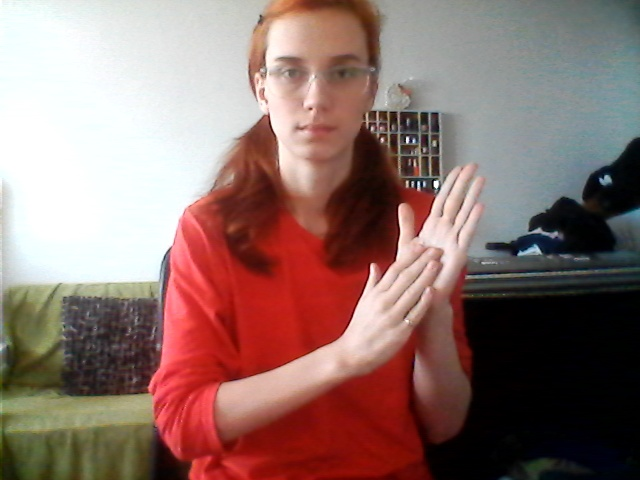m: (344, 162, 507, 384)
